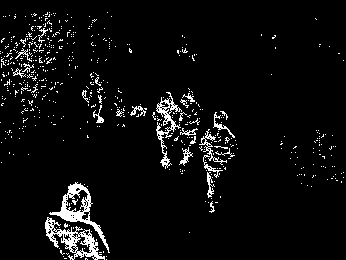person: (44, 180, 109, 260), (200, 110, 238, 212), (151, 89, 181, 169), (174, 86, 200, 166), (82, 70, 104, 124)
